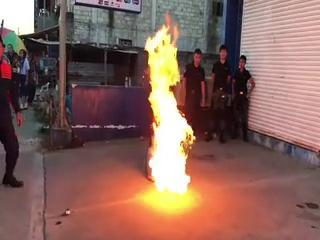Fire: (145, 27, 194, 196)
